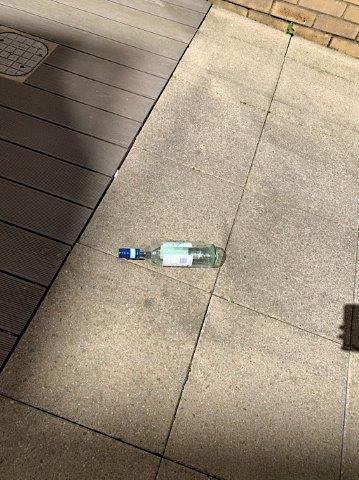botolkaca: (118, 239, 217, 269)
